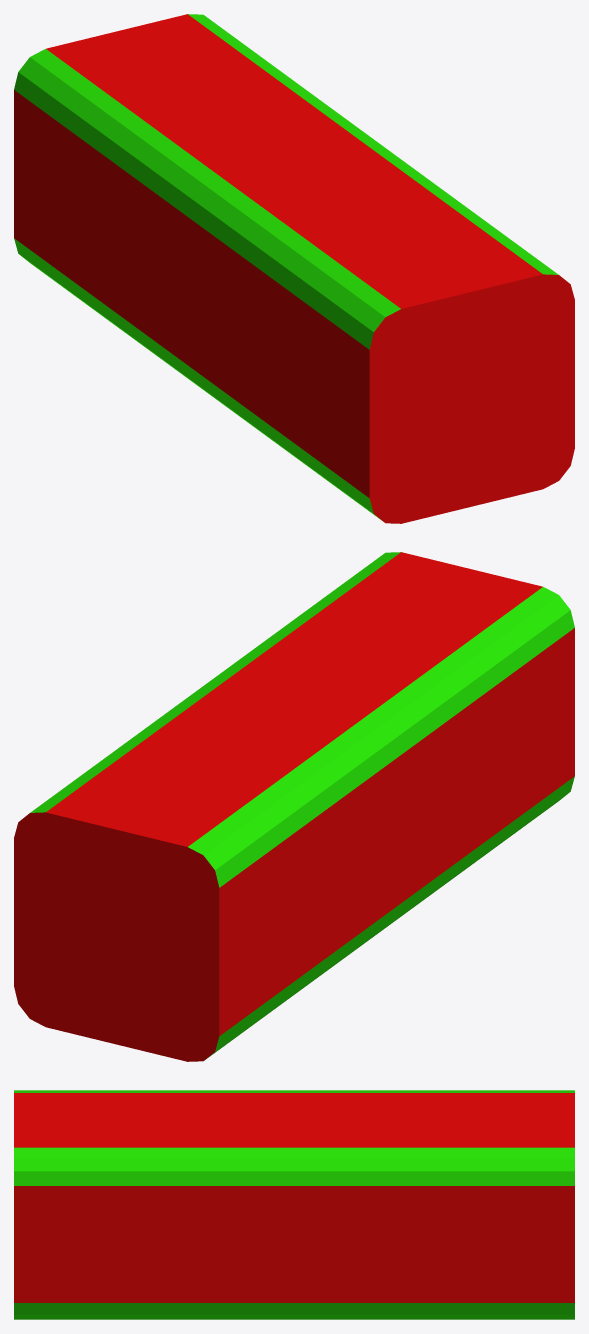
The model's file is InceYol_Kisa.fbx.
3 renders of one model, top to bottom at view 1: azimuth 30°, elevation 25°; view 2: azimuth 150°, elevation 25°; view 3: azimuth 270°, elevation 25°, orthographic. The views are drawn at different scales.
Parts seen in each view (by area): view 1: InceYol_Uzun.001; view 2: InceYol_Uzun.001; view 3: InceYol_Uzun.001.
Boxes of the visible parts, x1,y1,x2,y2 form: InceYol_Uzun.001: (14,14,574,523); InceYol_Uzun.001: (14,552,574,1061); InceYol_Uzun.001: (14,1090,574,1319).
Size of the model in its own units: 50.01 by 49.99 by 150.
